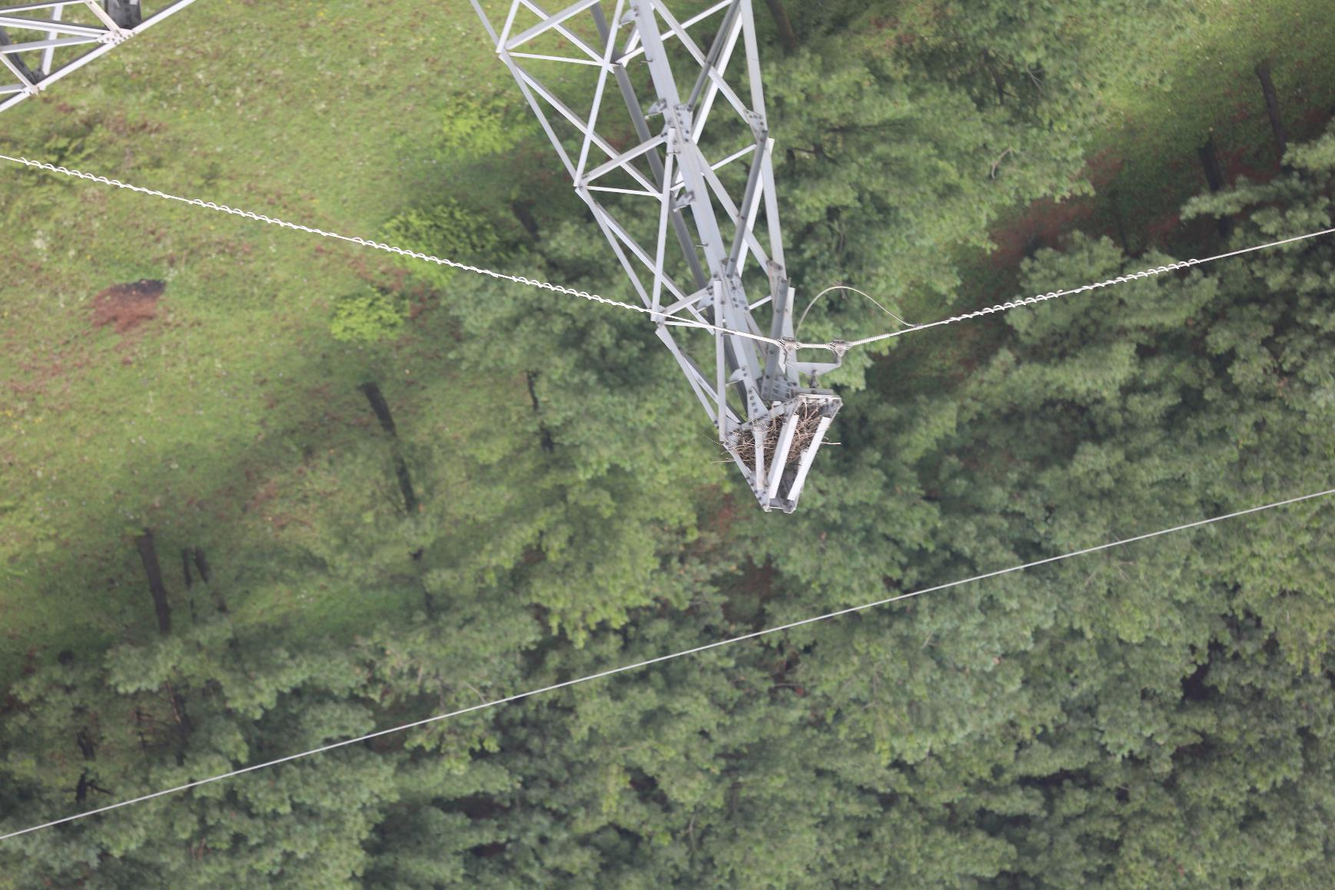nest: (727, 400, 822, 473)
